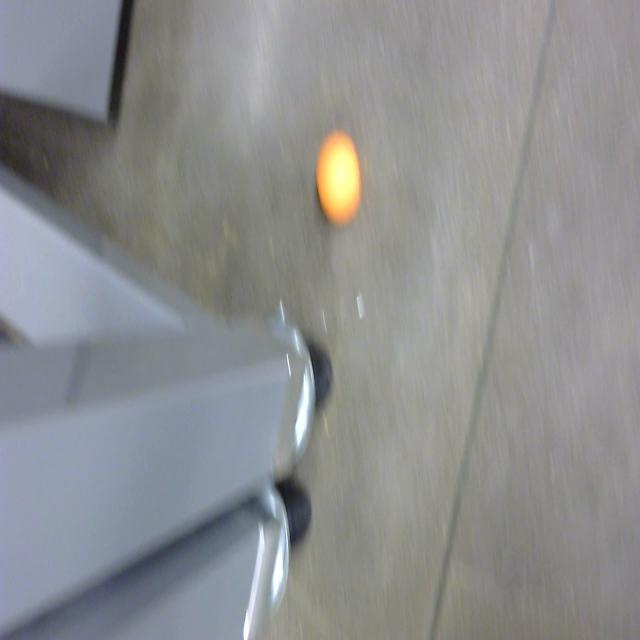ball: (314, 131, 363, 229)
